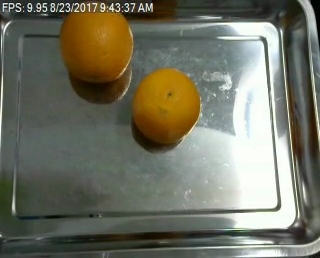Orange: (58, 3, 132, 81), (131, 69, 200, 144)
